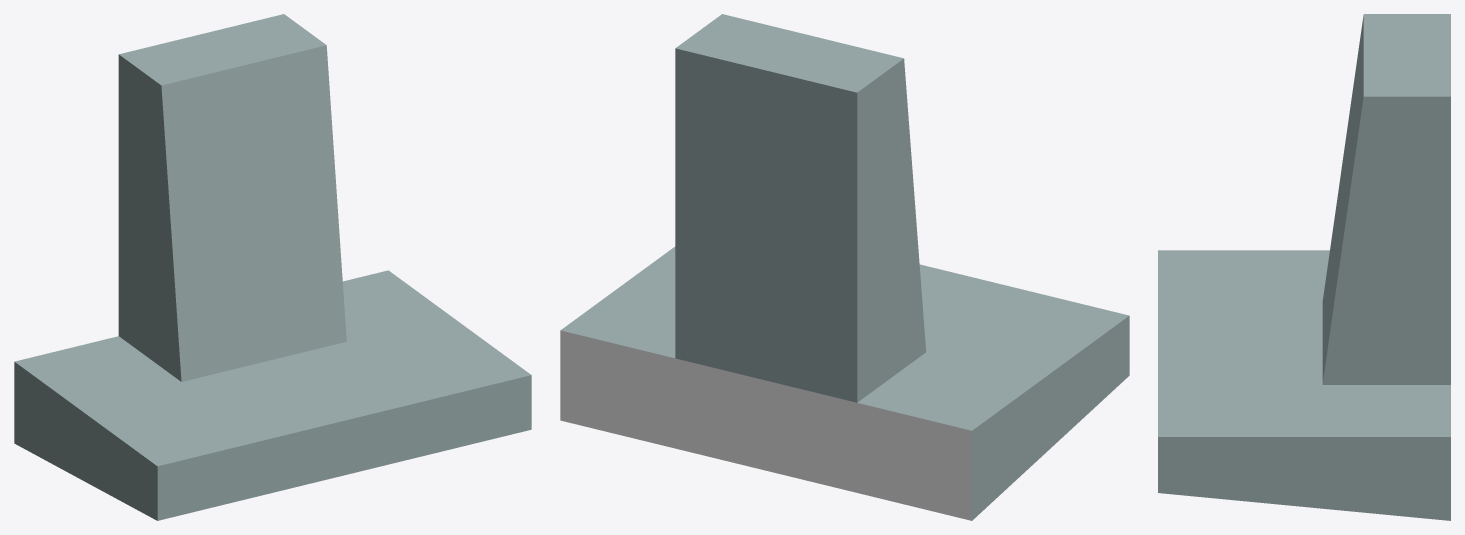
File: hoodModern.glb
3 views of the same model, side by side, from view 1: azimuth 30°, elevation 25°; view 2: azimuth 150°, elevation 25°; view 3: azimuth 270°, elevation 25° (orthographic). The views are drawn at different scales.
Visible parts, largest first — view 1: hoodModern(Clone); view 2: hoodModern(Clone); view 3: hoodModern(Clone).
Boxes of the visible parts, x1,y1,x2,y2 form: hoodModern(Clone): (14, 14, 531, 520); hoodModern(Clone): (560, 14, 1129, 520); hoodModern(Clone): (1158, 14, 1450, 520).
Bounding box in the file's own units: 0.8729 × 0.811 × 0.5783.
Materials: 2 (2 with a texture image).
